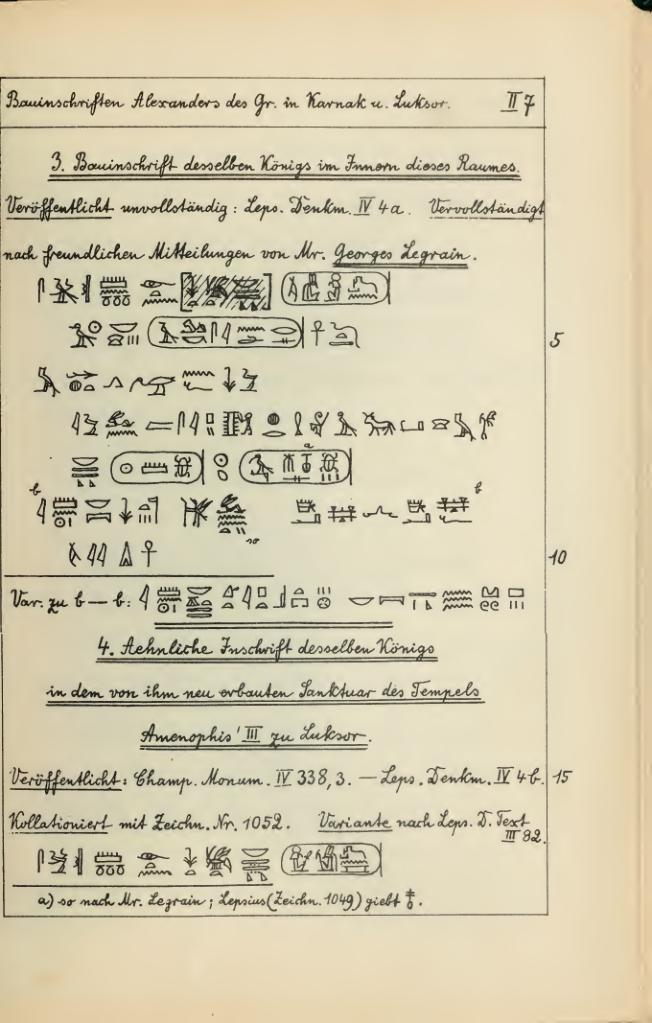circle: (264, 244, 426, 323), (143, 303, 330, 359), (224, 440, 381, 497), (277, 830, 407, 889), (96, 440, 225, 497)
